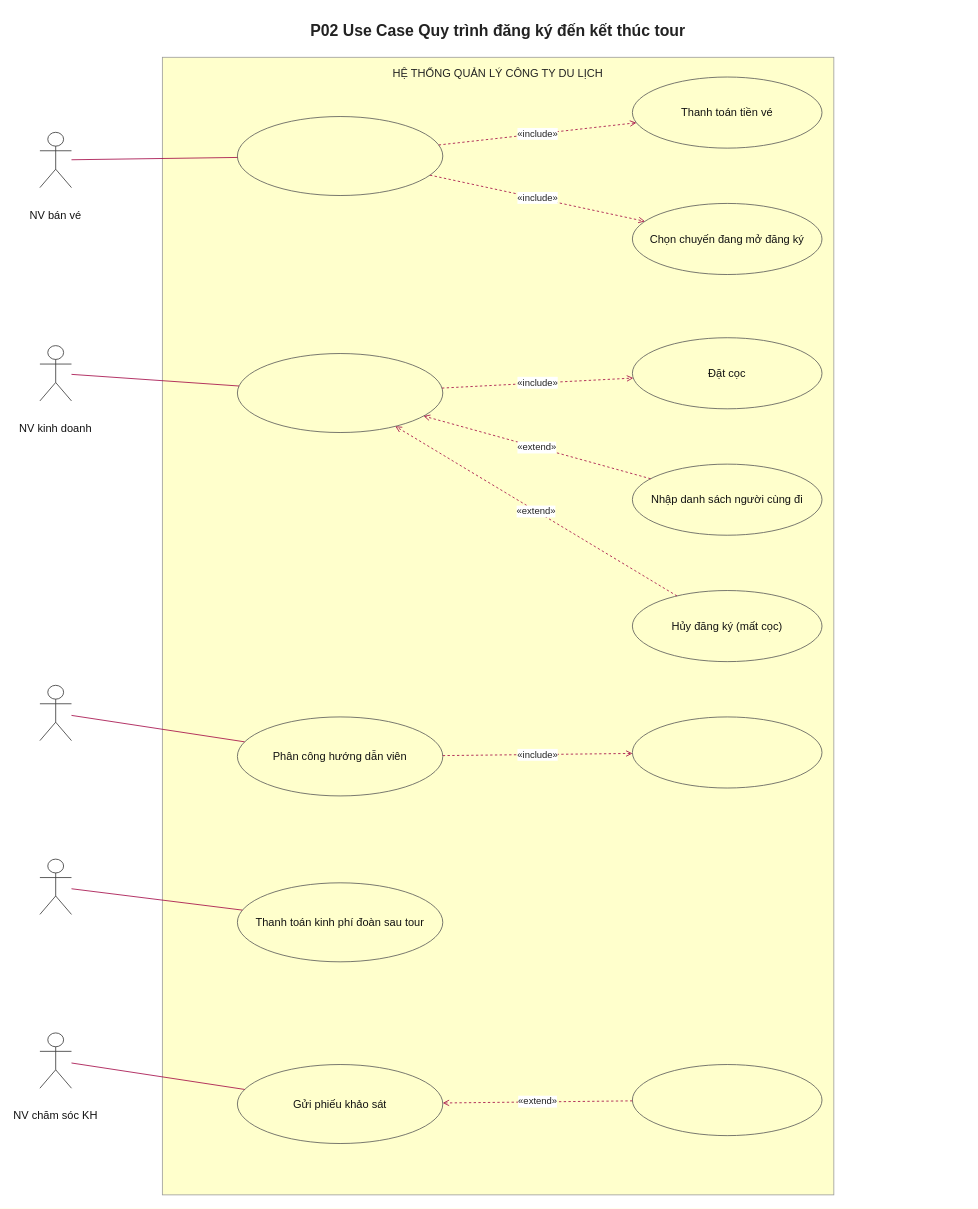
The diagram is 978 pixels wide and 1209 high, and some of its shapes have lost their labels. The centre of each missing label's shape, as x and y in pixels:
Ghi nhận góp ý: the point at 727,1100
Kiểm tra trùng lịch HDV: the point at 727,752
Kế toán: the point at 55,886
Lập phiếu đăng ký theo đoàn: the point at 340,393
NV điều hành: the point at 55,713
Đăng ký khách lẻ theo chuyến: the point at 340,156
